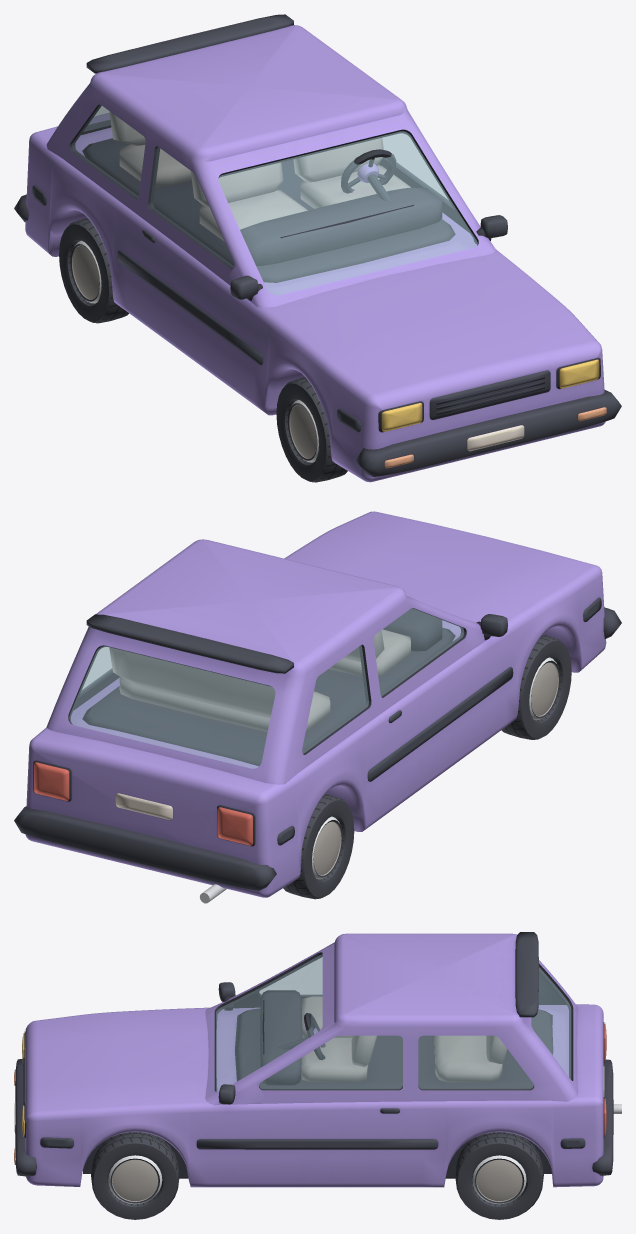
The model's file is 1980s-hatchback.glb.
3 views of the same model, one above another, from view 1: azimuth 30°, elevation 25°; view 2: azimuth 150°, elevation 25°; view 3: azimuth 270°, elevation 25° (orthographic). The views are drawn at different scales.
Parts seen in each view (by area): view 1: 1980s-hatchback_body, 1980s-hatchback_windows, 1980s-hatchback_wheel_fr, 1980s-hatchback_wheel_rr; view 2: 1980s-hatchback_body, 1980s-hatchback_windows, 1980s-hatchback_wheel_rr, 1980s-hatchback_wheel_fr; view 3: 1980s-hatchback_body, 1980s-hatchback_windows, 1980s-hatchback_wheel_fl, 1980s-hatchback_wheel_rl.
Part boxes in pixels (left/top/right/bottom): 1980s-hatchback_body: left=14, top=14, right=621, bottom=482; 1980s-hatchback_windows: left=72, top=105, right=477, bottom=295; 1980s-hatchback_wheel_fr: left=276, top=377, right=347, bottom=482; 1980s-hatchback_wheel_rr: left=59, top=218, right=128, bottom=323; 1980s-hatchback_body: left=14, top=511, right=621, bottom=903; 1980s-hatchback_windows: left=69, top=608, right=463, bottom=768; 1980s-hatchback_wheel_rr: left=283, top=794, right=354, bottom=899; 1980s-hatchback_wheel_fr: left=501, top=634, right=571, bottom=739; 1980s-hatchback_body: left=14, top=932, right=621, bottom=1187; 1980s-hatchback_windows: left=216, top=954, right=570, bottom=1091; 1980s-hatchback_wheel_fl: left=91, top=1132, right=179, bottom=1219; 1980s-hatchback_wheel_rl: left=455, top=1132, right=543, bottom=1219.
Bounding box in the file's own units: 1.73 × 1.44 × 3.97.
18 materials, 5 textured.
